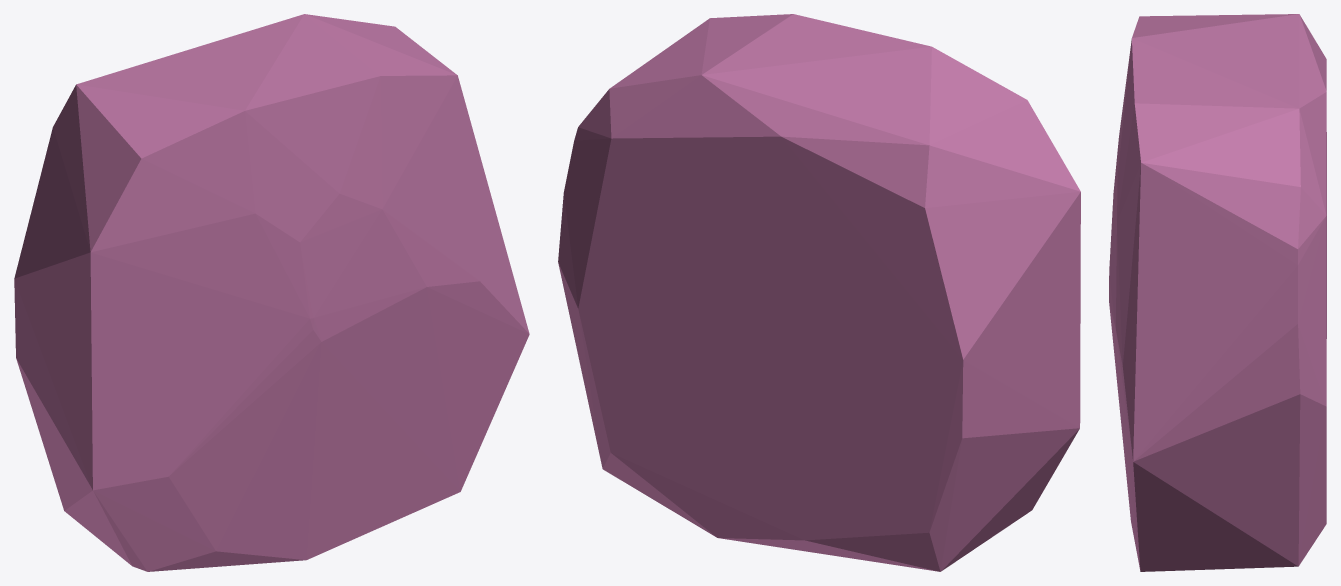
Rendered from detector_thermal_fire_a01.glb.
The picture shows the model from 3 angles, left to right: view 1: azimuth 30°, elevation 25°; view 2: azimuth 150°, elevation 25°; view 3: azimuth 270°, elevation 25°; orthographic projection. The views are drawn at different scales.
Visible parts, largest first — view 1: geometry_0; view 2: geometry_0; view 3: geometry_0.
Part boxes in pixels (left/top/right/bottom): geometry_0: left=14, top=14, right=529, bottom=571; geometry_0: left=558, top=14, right=1080, bottom=571; geometry_0: left=1109, top=14, right=1326, bottom=571.
Bounding box in the file's own units: 0.4632 × 0.4668 × 0.2028.
